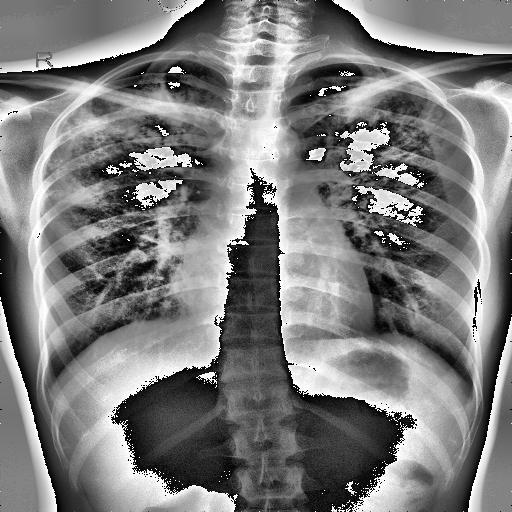13- Pulmonary fibrosis: (44, 80, 189, 208), (315, 76, 462, 200)
6- Infiltration: (37, 102, 229, 220), (48, 92, 212, 229), (44, 80, 189, 208), (315, 76, 462, 200), (312, 82, 458, 180), (323, 76, 457, 167)
